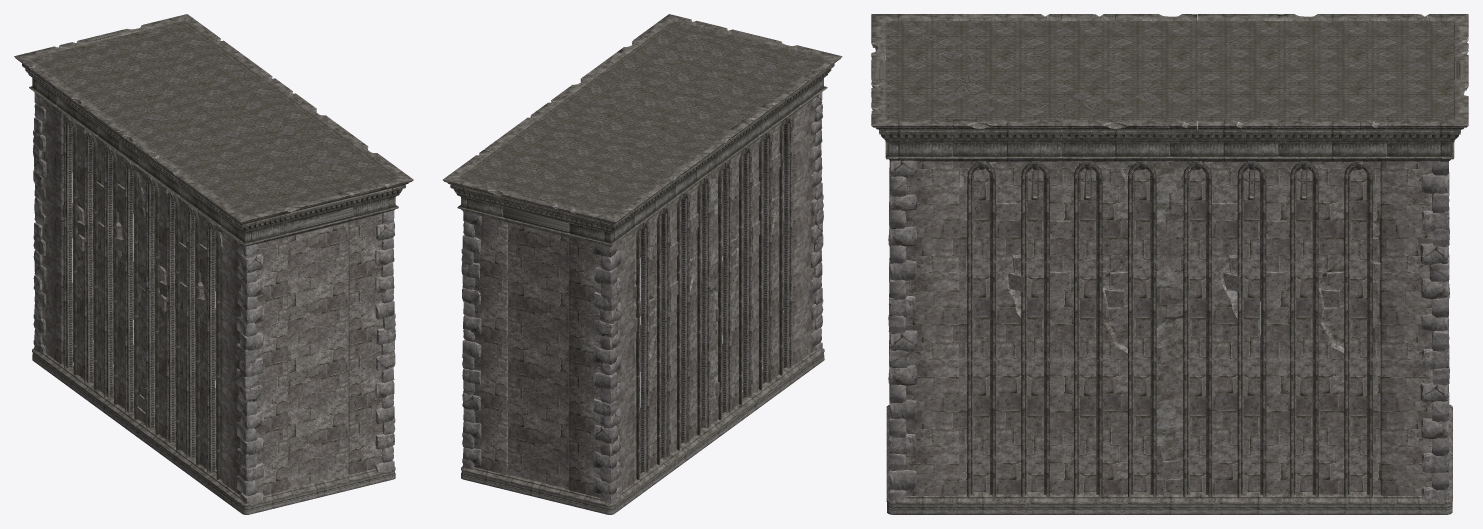
The model's file is eso_ss13_buildingplatform2-transformed.glb.
3 views of the same model, side by side, from view 1: azimuth 30°, elevation 25°; view 2: azimuth 150°, elevation 25°; view 3: azimuth 270°, elevation 25° (orthographic). The views are drawn at different scales.
Parts seen in each view (by area): view 1: default; view 2: default; view 3: default.
Part boxes in pixels (bbox=[...]): default: bbox=[14, 14, 413, 514]; default: bbox=[443, 14, 842, 514]; default: bbox=[871, 14, 1468, 514].
Size of the model in its own units: 17.81 by 29.58 by 40.28.
Materials: 5 (5 with a texture image).
